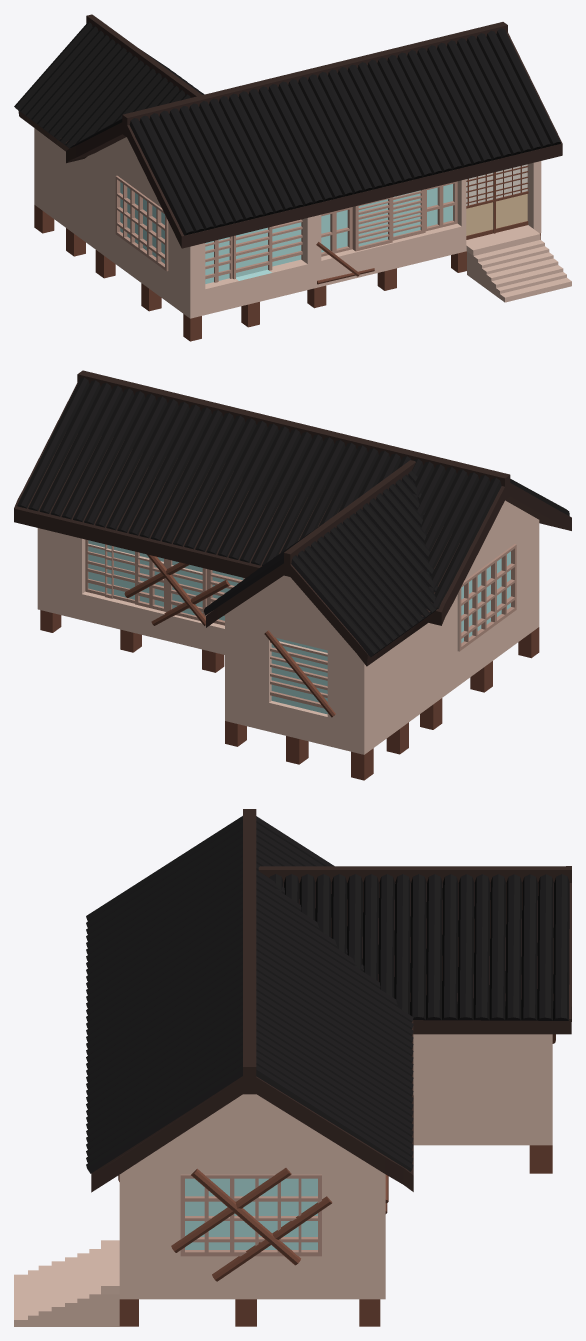
File: Luna_housejapanVS2.fbx
3 renders of one model, top to bottom at view 1: azimuth 30°, elevation 25°; view 2: azimuth 150°, elevation 25°; view 3: azimuth 270°, elevation 25°, orthographic. The views are drawn at different scales.
Visible parts, largest first — view 1: ROOF TILES, home, egt dak, raam 3, raam, stairs, balken, iets van deur, DOOR, window\, ramen 2; view 2: ROOF TILES, home, egt dak, raam 3, ramen 2, balken, dak.007, dak.014; view 3: ROOF TILES, home, egt dak, stairs, ramen 2, raam 3, dak.004, balken, dak.003, raam3 extra.
Boxes of the visible parts, bbox=[...] form: ROOF TILES: bbox=[14, 22, 560, 235]; home: bbox=[34, 128, 541, 318]; egt dak: bbox=[18, 14, 562, 248]; raam 3: bbox=[115, 175, 457, 282]; raam: bbox=[205, 184, 452, 283]; stairs: bbox=[466, 229, 571, 302]; balken: bbox=[34, 205, 540, 341]; iets van deur: bbox=[466, 194, 527, 235]; DOOR: bbox=[466, 165, 528, 239]; window\: bbox=[466, 164, 527, 205]; ramen 2: bbox=[120, 182, 164, 263]; ROOF TILES: bbox=[17, 377, 569, 657]; home: bbox=[37, 500, 539, 754]; egt dak: bbox=[14, 370, 571, 666]; raam 3: bbox=[85, 539, 516, 708]; ramen 2: bbox=[88, 540, 510, 710]; balken: bbox=[40, 610, 539, 780]; dak.007: bbox=[124, 554, 230, 625]; dak.014: bbox=[264, 630, 335, 717]; ROOF TILES: bbox=[86, 816, 569, 1173]; home: bbox=[119, 1034, 552, 1299]; egt dak: bbox=[91, 809, 571, 1192]; stairs: bbox=[14, 1240, 119, 1326]; ramen 2: bbox=[185, 1178, 317, 1249]; raam 3: bbox=[180, 1174, 321, 1256]; dak.004: bbox=[171, 1168, 332, 1281]; balken: bbox=[119, 1145, 552, 1326]; dak.003: bbox=[191, 1168, 300, 1265]; raam3 extra: bbox=[413, 1066, 442, 1087].
Size of the model in its own units: 13.24 by 6.51 by 12.08.
